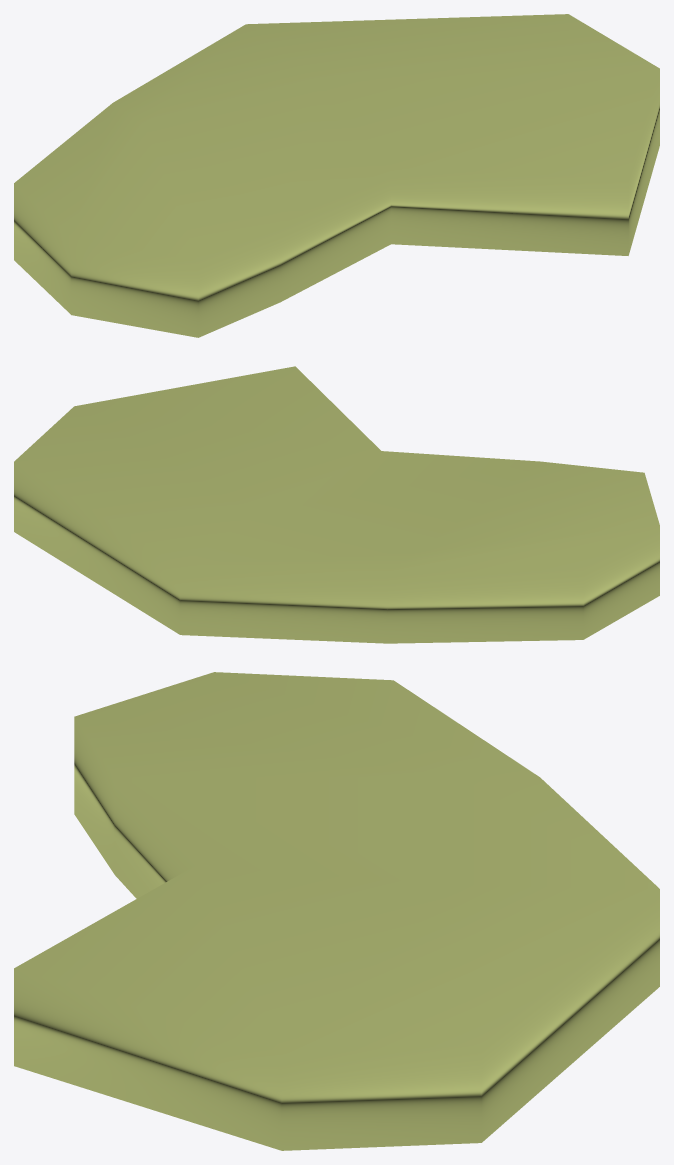
The model's file is rock2.fbx.
3 views of the same model, one above another, from view 1: azimuth 30°, elevation 25°; view 2: azimuth 150°, elevation 25°; view 3: azimuth 270°, elevation 25° (orthographic). The views are drawn at different scales.
Visible parts, largest first — view 1: rock-2; view 2: rock-2; view 3: rock-2.
Boxes of the visible parts, x1,y1,x2,y2 form: rock-2: (14,14,659,337); rock-2: (14,366,659,643); rock-2: (14,672,659,1150).
Bounding box in the file's own units: 94.53 × 11.3 × 67.72.
